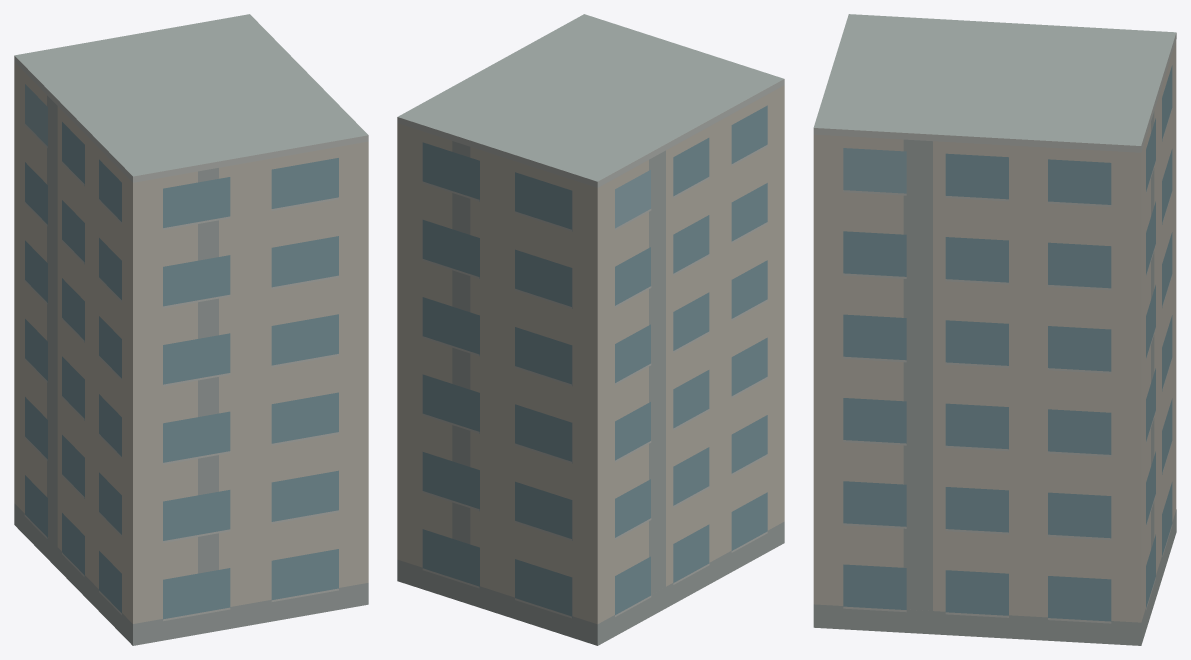
File: survey-upis-32792104.glb
The picture shows the model from 3 angles, left to right: view 1: azimuth 30°, elevation 25°; view 2: azimuth 150°, elevation 25°; view 3: azimuth 270°, elevation 25°; orthographic projection. The views are drawn at different scales.
Visible parts, largest first — view 1: survey-upis-32792104.tmp; view 2: survey-upis-32792104.tmp; view 3: survey-upis-32792104.tmp.
Part boxes in pixels (<box>): survey-upis-32792104.tmp: <box>14,14,368,645</box>; survey-upis-32792104.tmp: <box>397,14,784,645</box>; survey-upis-32792104.tmp: <box>813,14,1176,645</box>.
Bounding box in the file's own units: 10.32 × 18.2 × 11.99.
